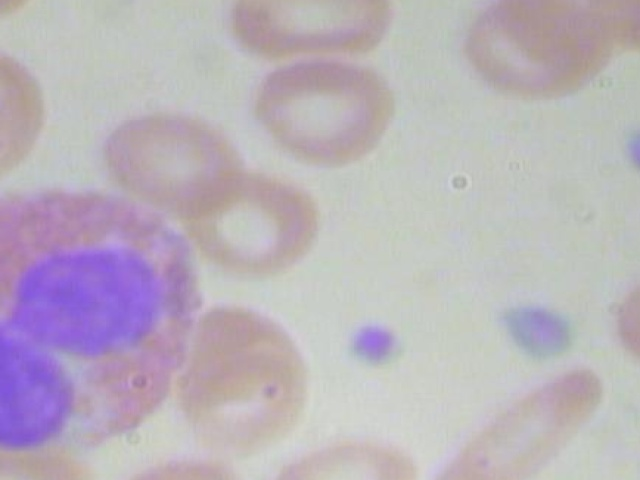Platelets: (487, 295, 589, 373), (336, 314, 415, 374), (612, 117, 640, 180)
RBC: (175, 298, 319, 458), (432, 365, 611, 480), (248, 59, 412, 176), (184, 169, 341, 277), (94, 105, 251, 213), (457, 0, 614, 100), (226, 0, 399, 76), (267, 432, 424, 480), (93, 453, 257, 480), (606, 246, 640, 376), (0, 437, 93, 480)
WBC: (0, 177, 226, 467)
